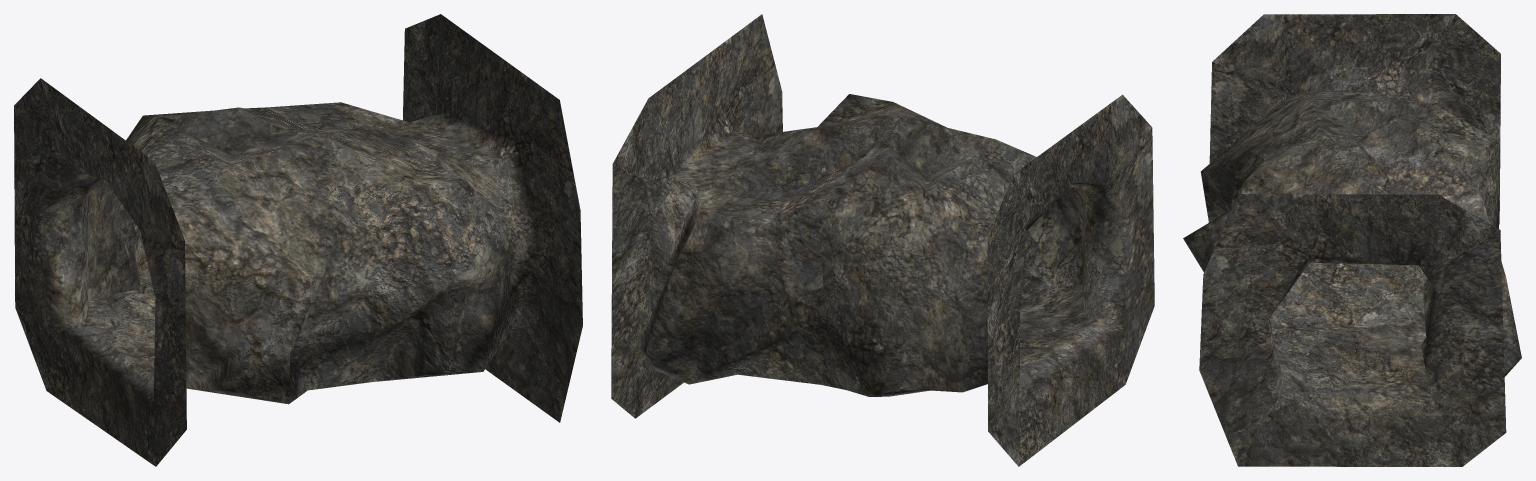
File: Module7_LOD2.fbx
3 views of the same model, side by side, from view 1: azimuth 30°, elevation 25°; view 2: azimuth 150°, elevation 25°; view 3: azimuth 270°, elevation 25° (orthographic). The views are drawn at different scales.
Parts seen in each view (by area): view 1: cave_el7_800_Group27227; view 2: cave_el7_800_Group27227; view 3: cave_el7_800_Group27227.
Part boxes in pixels (<box>): cave_el7_800_Group27227: <box>14,14,582,466</box>; cave_el7_800_Group27227: <box>611,14,1154,466</box>; cave_el7_800_Group27227: <box>1183,14,1521,466</box>.
Size of the model in its own units: 10.27 by 8.57 by 9.
